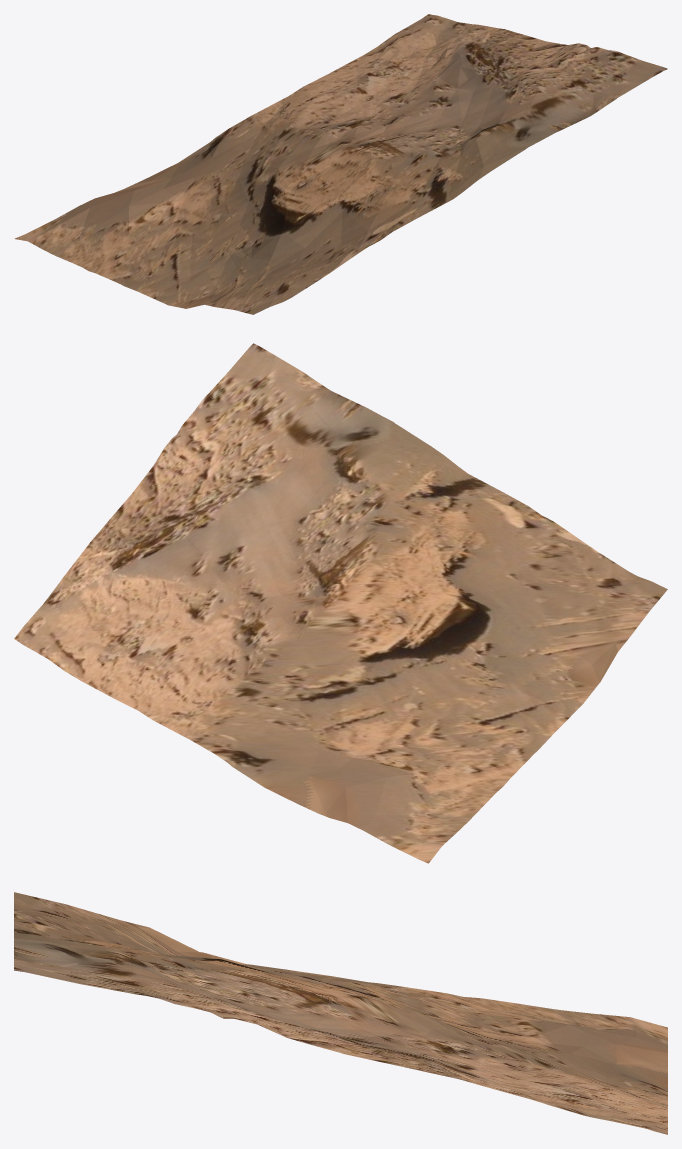
3 renders of one model, top to bottom at view 1: azimuth 30°, elevation 25°; view 2: azimuth 150°, elevation 25°; view 3: azimuth 270°, elevation 25°, orthographic. The views are drawn at different scales.
Bounding box in the file's own units: 1.04 × 0.5875 × 1.04.
Materials: 3 (3 with a texture image).
